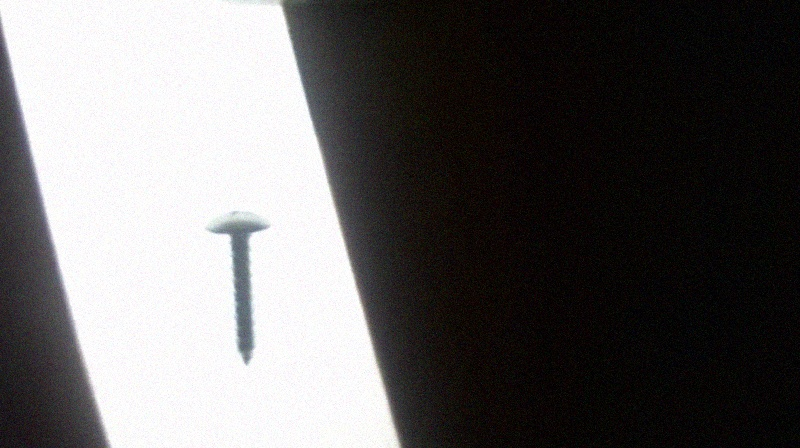S003: (203, 204, 275, 368)
